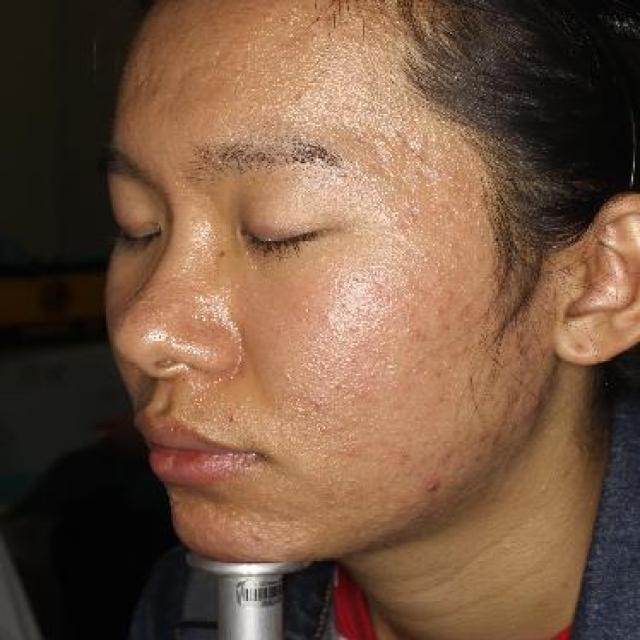darkspot: (387, 445, 423, 476), (428, 446, 464, 471), (402, 351, 430, 383), (432, 317, 461, 343), (428, 362, 450, 388), (459, 299, 478, 322)
nodules: (418, 474, 447, 497), (404, 322, 428, 346), (348, 320, 367, 340), (433, 257, 448, 280), (401, 211, 423, 226), (355, 386, 372, 402), (442, 288, 459, 302)
